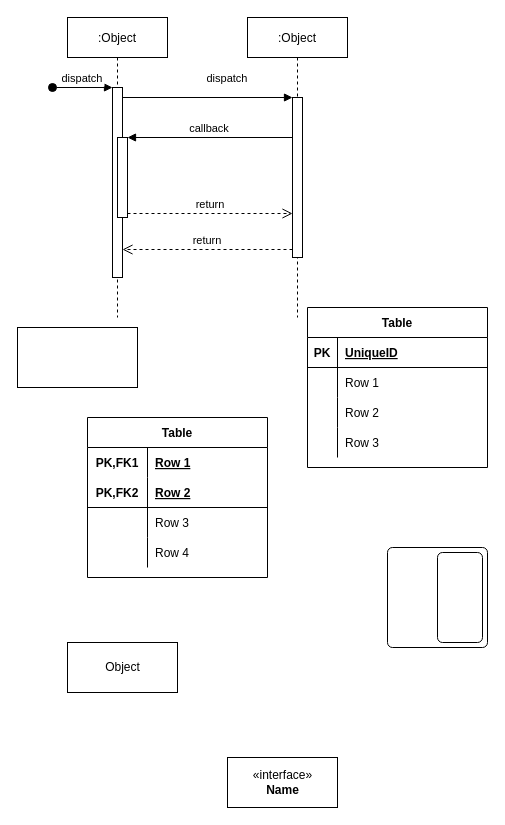
Some shapes in this 505 by 825 pixel diagram are drawn without their labels. Each missing label, with the centre of its shape:
"main" goes at point 412,597.
"sub" goes at point 459,597.
